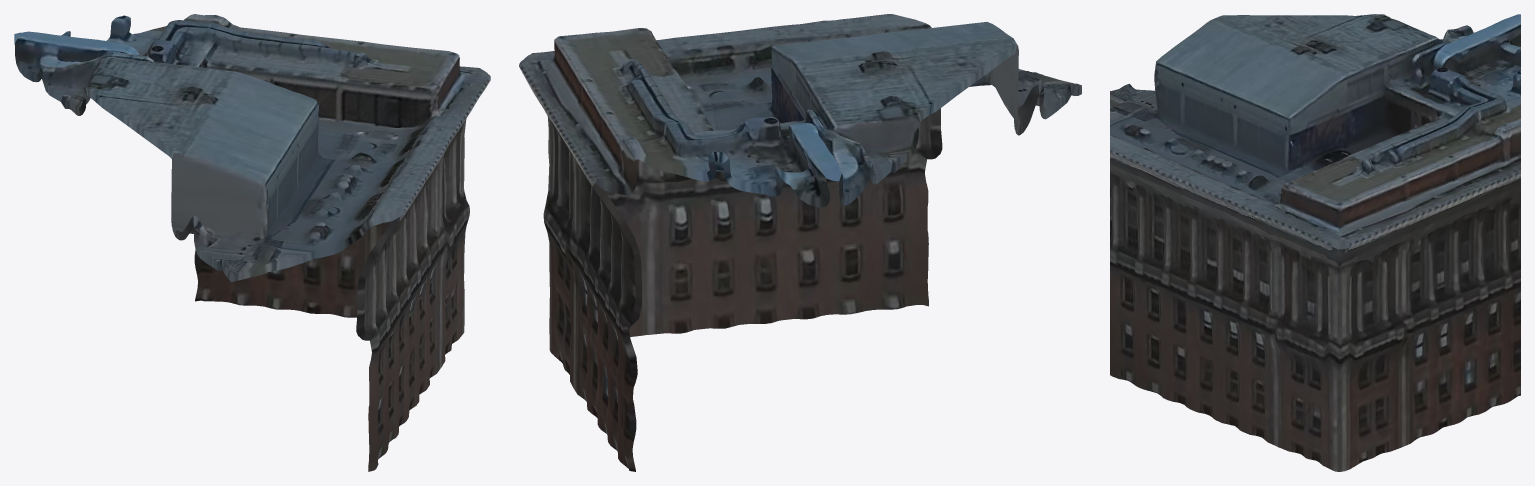
The model's file is z20-167787-405225-h1-yup-uvflip-v3-world.glb.
3 views of the same model, side by side, from view 1: azimuth 30°, elevation 25°; view 2: azimuth 150°, elevation 25°; view 3: azimuth 270°, elevation 25° (orthographic). The views are drawn at different scales.
Bounding box in the file's own units: 30.16 × 24.4 × 30.32.
Materials: 1 (1 with a texture image).
